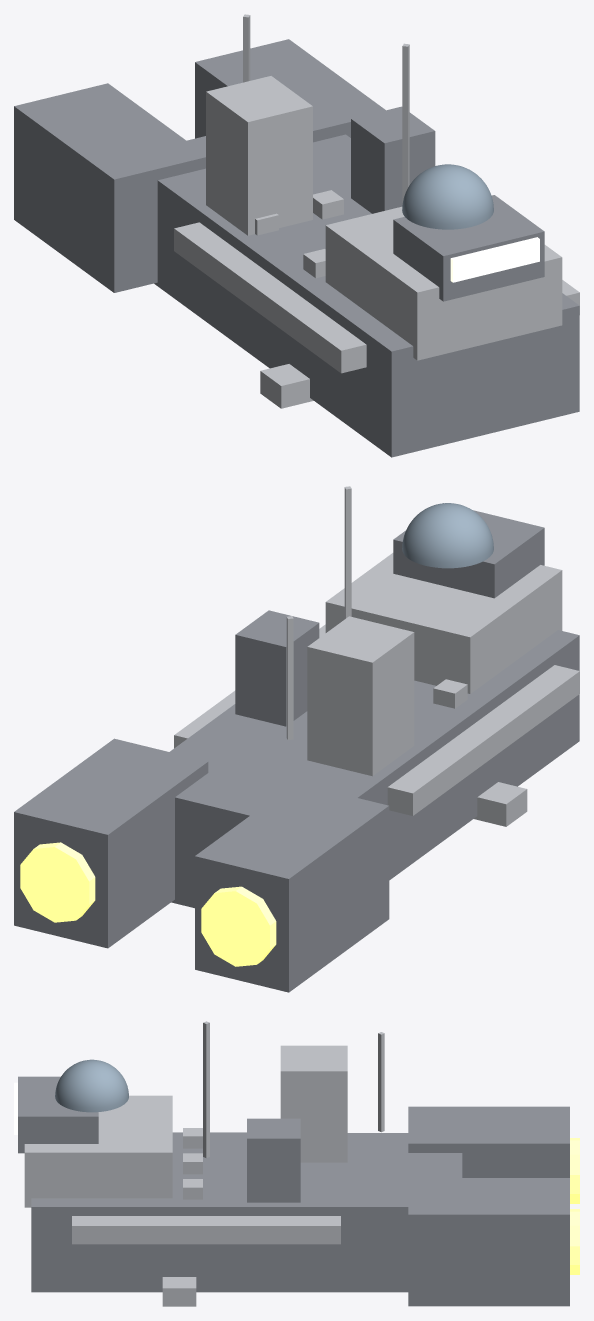
The model's file is tug.glb.
3 renders of one model, top to bottom at view 1: azimuth 30°, elevation 25°; view 2: azimuth 150°, elevation 25°; view 3: azimuth 270°, elevation 25°, orthographic. The views are drawn at different scales.
Parts seen in each view (by area): view 1: tug, dome.011; view 2: tug, dome.011; view 3: tug, dome.011.
Boxes of the visible parts, x1,y1,x2,y2 form: tug: (14,14,579,457); dome.011: (402,164,493,229); tug: (14,486,579,992); dome.011: (402,503,493,568); tug: (14,1021,579,1306); dome.011: (55,1059,128,1112).
Size of the model in its own units: 3.8 by 4.05 by 8.41.
